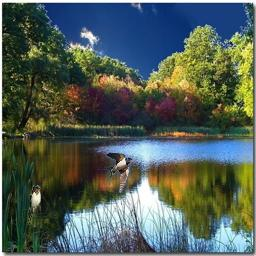Swallow: (97, 153, 132, 193), (27, 185, 41, 225)
